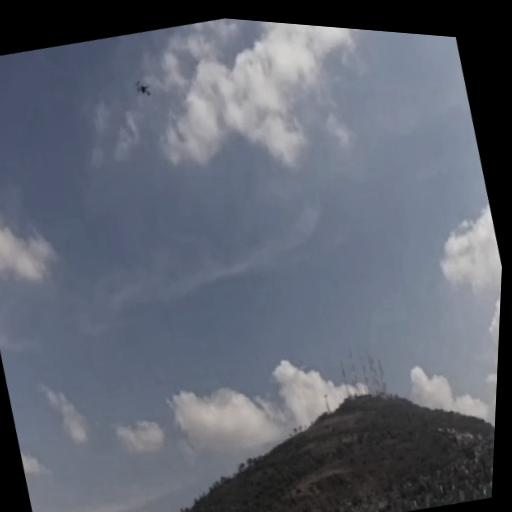drones: (130, 75, 156, 104)
